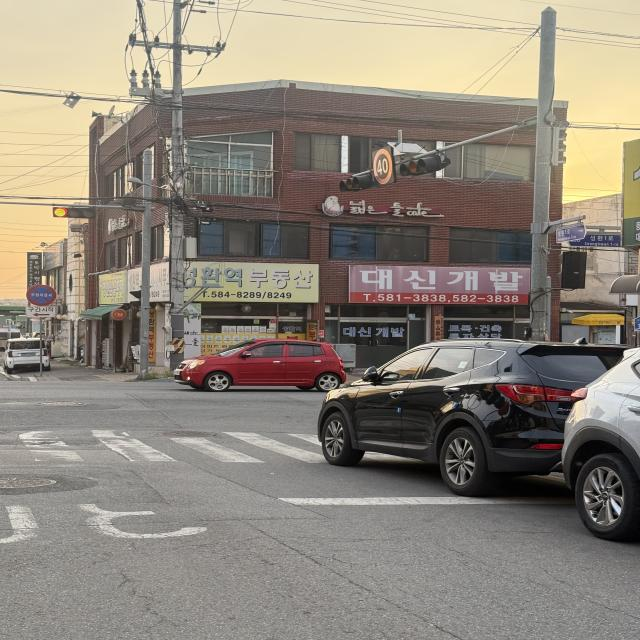car: (316, 326, 639, 491), (556, 341, 640, 541), (172, 338, 344, 391), (4, 335, 63, 378)
